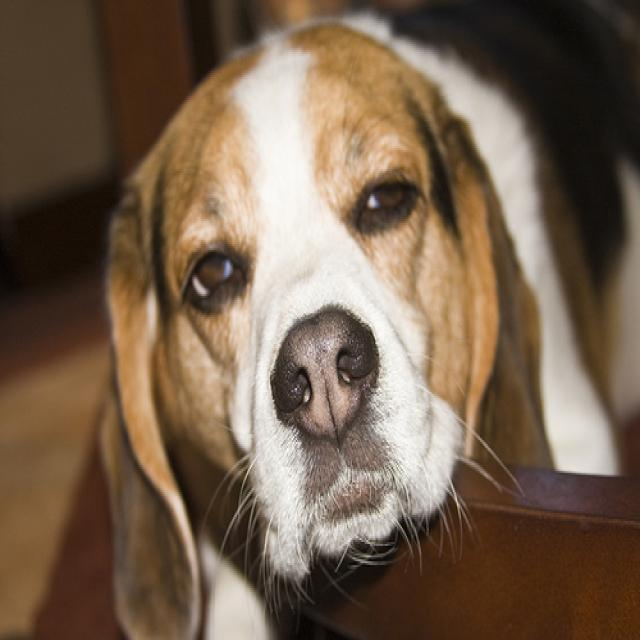dog-beagle: (95, 4, 637, 636)
